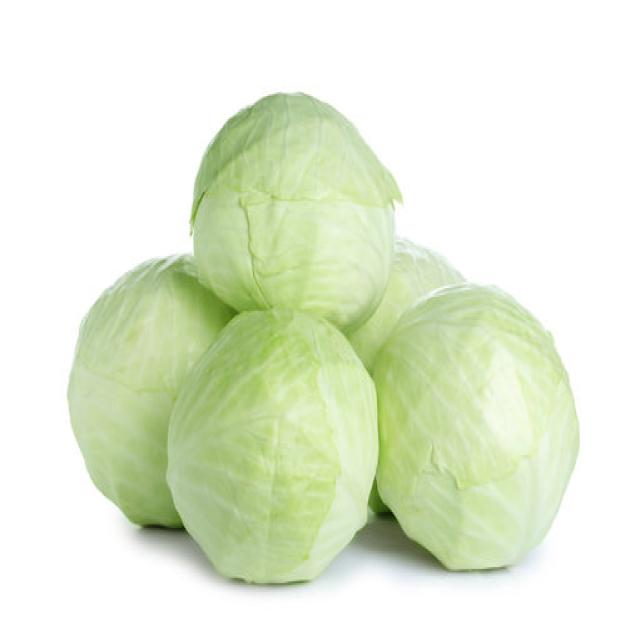Cabbage: (371, 281, 580, 571), (164, 306, 380, 585), (188, 89, 403, 332), (66, 250, 235, 530), (345, 234, 467, 516)
